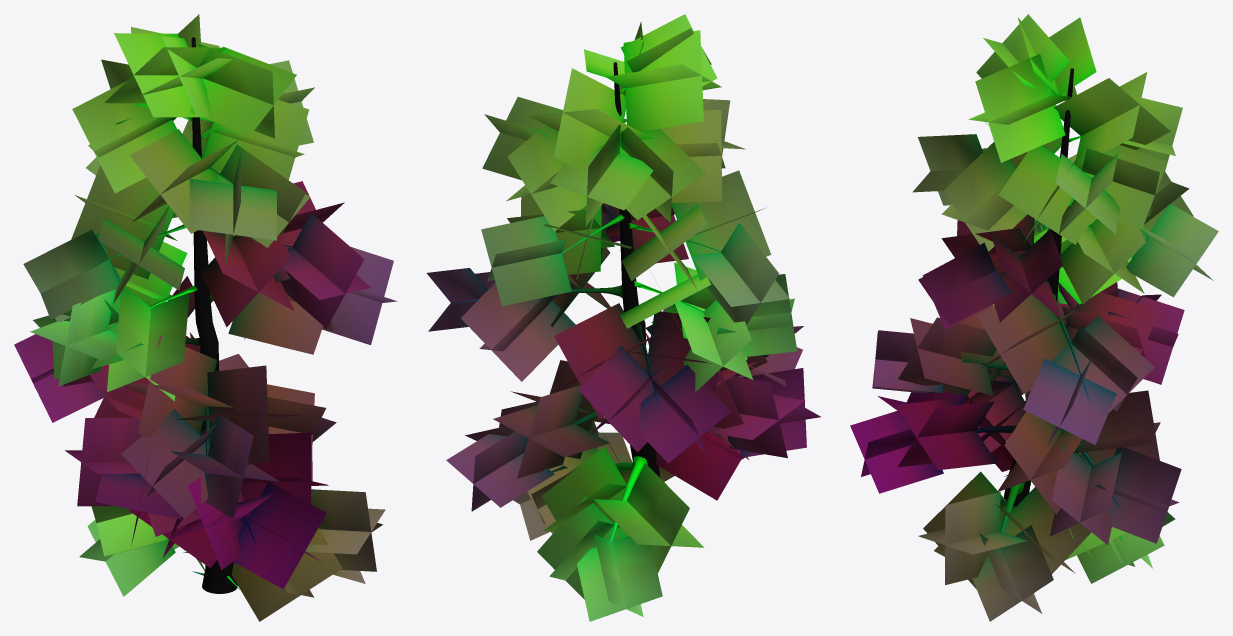
File: URP_P7_Tree_3_LOD_0.fbx
3 renders of one model, left to right at view 1: azimuth 30°, elevation 25°; view 2: azimuth 150°, elevation 25°; view 3: azimuth 270°, elevation 25°, orthographic. The views are drawn at different scales.
Visible parts, largest first — view 1: Tree_3_LOD_0; view 2: Tree_3_LOD_0; view 3: Tree_3_LOD_0.
Part boxes in pixels (x1,y1,x2,y2): Tree_3_LOD_0: (14, 14, 396, 621); Tree_3_LOD_0: (426, 14, 820, 621); Tree_3_LOD_0: (850, 14, 1218, 621).
Bounding box in the file's own units: 289 × 439 × 270.
